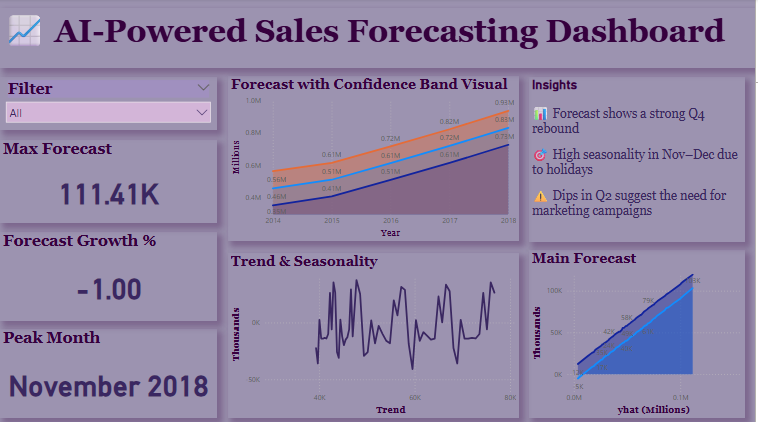

What the dashboard file says about the page in this screenshot:
{"tool":"powerbi","page":{"name":"Page 1","canvas":[1280,720],"ordinal":0},"visuals":[{"type":"lineChart","title":"Forecast with Confidence Band Visual","fields":{"Category":["SalesForecast.ds.Variation.Date Hierarchy.Year","SalesForecast.ds.Variation.Date Hierarchy.Quarter","SalesForecast.ds.Variation.Date Hierarchy.Month","SalesForecast.ds.Variation.Date Hierarchy.Day"],"Y":["Sum(SalesForecast.yhat)","Sum(SalesForecast.yhat_lower)","Sum(SalesForecast.yhat_upper)"]},"box":[387.7,130.4,492.7,279.4],"z":0},{"type":"lineChart","title":"Trend & Seasonality","fields":{"Category":["SalesForecast.trend"],"Y":["Sum(SalesForecast.yearly)"]},"box":[387.7,430.1,492.7,279.4],"z":1},{"type":"card","title":"Max Forecast","fields":{"Values":["SalesForecast.Max Forecast"]},"box":[1.7,238.7,367.4,140.5],"z":2},{"type":"card","title":"Forecast Growth %","fields":{"Values":["SalesForecast.Forecast Growth %"]},"box":[1.7,394.5,367.4,150.7],"z":3},{"type":"card","title":"Peak Month","fields":{"Values":["SalesForecast.Peak Month"]},"box":[1.7,558.7,367.4,150.7],"z":4},{"type":"slicer","fields":{"Values":["SalesForecast.ds"]},"box":[1.7,132.1,367.4,89.7],"z":5},{"type":"areaChart","title":"Main Forecast\t","fields":{"Category":["SalesForecast.yhat"],"Y":["Sum(SalesForecast.yhat_lower)","Sum(SalesForecast.yhat_upper)"]},"box":[897.4,425,365.7,284.4],"z":6},{"type":"textbox","title":"Insights","box":[897,132,366,279],"z":7},{"type":"textbox","title":"📈 AI-Powered Sales Forecasting Dashboard","box":[1.7,15.2,1278.3,101.6],"z":8}]}

Visuals, with their boxes in screenshot pixels (x1, y1, x2, y2), scaled from the page's 1280x720 canvas onto the 758x422 screenshot:
"Forecast with Confidence Band Visual" lineChart: l=230, t=76, r=521, b=240
"Trend & Seasonality" lineChart: l=230, t=252, r=521, b=416
"Max Forecast" card: l=1, t=140, r=219, b=222
"Forecast Growth %" card: l=1, t=231, r=219, b=320
"Peak Month" card: l=1, t=327, r=219, b=416
slicer - SalesForecast.ds: l=1, t=77, r=219, b=130
"Main Forecast	" areaChart: l=531, t=249, r=748, b=416
"Insights" textbox: l=531, t=77, r=748, b=241
"📈 AI-Powered Sales Forecasting Dashboard" textbox: l=1, t=9, r=757, b=68
